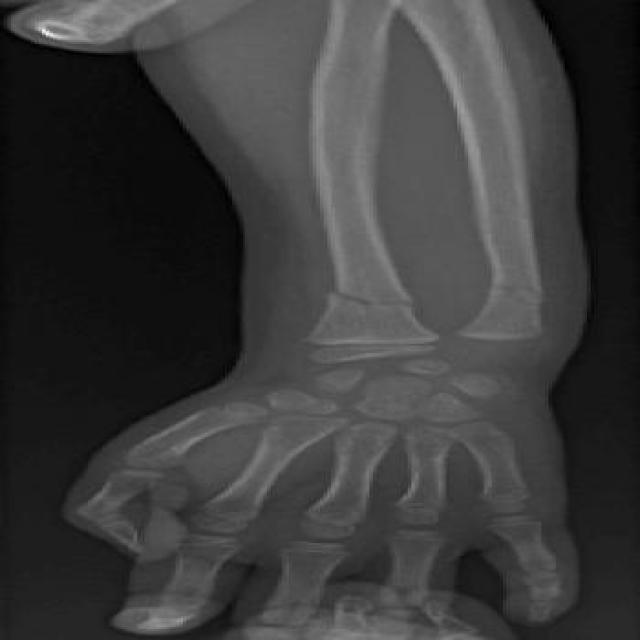fracture: (314, 286, 432, 312), (472, 280, 568, 304)
